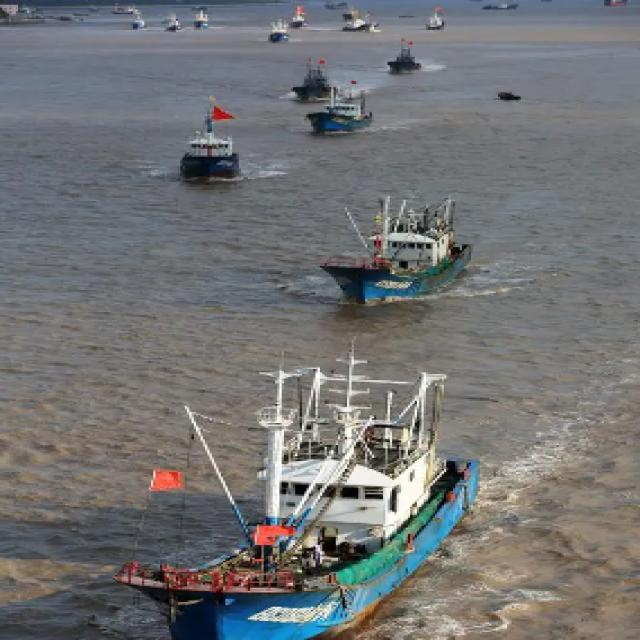fishing boat: (113, 340, 487, 640), (324, 191, 476, 303), (173, 92, 246, 182), (318, 79, 384, 128), (285, 57, 343, 97), (386, 35, 427, 78), (339, 4, 383, 32), (420, 4, 452, 29), (193, 8, 219, 30), (473, 0, 525, 11), (268, 20, 293, 42), (164, 10, 184, 36), (108, 0, 140, 16), (133, 3, 148, 36), (292, 3, 306, 24), (602, 0, 634, 6)
